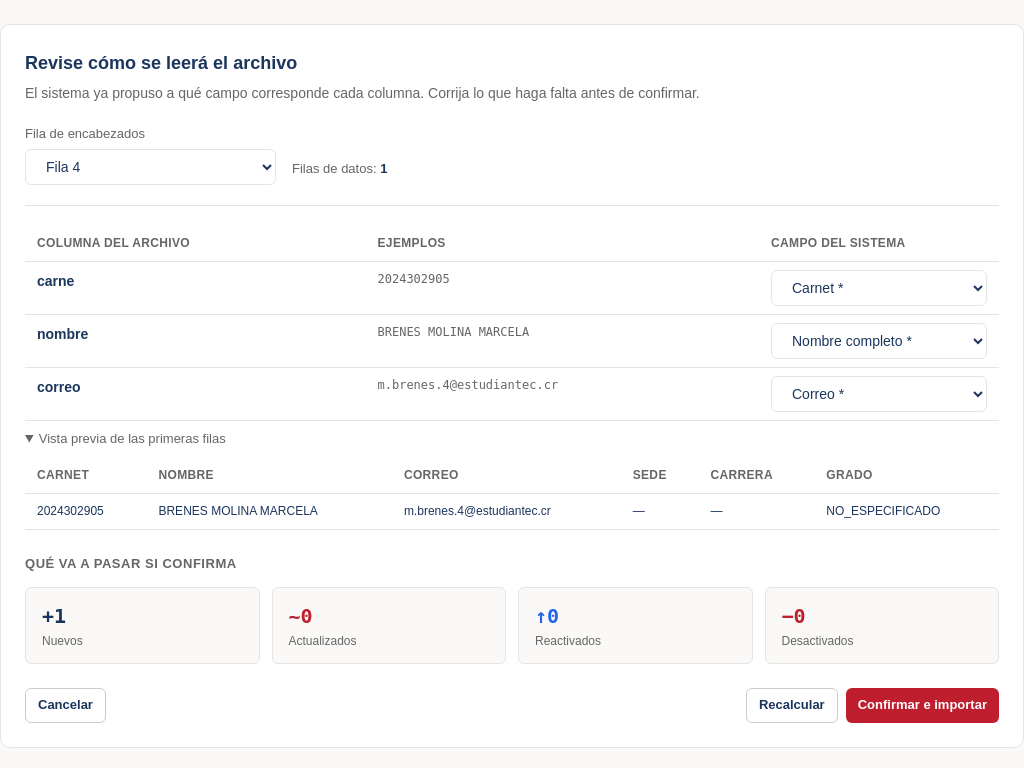
ColumnMapper › libera la columna anterior cuando un campo se reasigna
The image size is (1024, 768).
El correo pasa a leerse de la columna del nombre.
Select "Correo *" in the dropdown named "Campo para la columna nombre" at x=879, y=341, box [771,323,987,359]
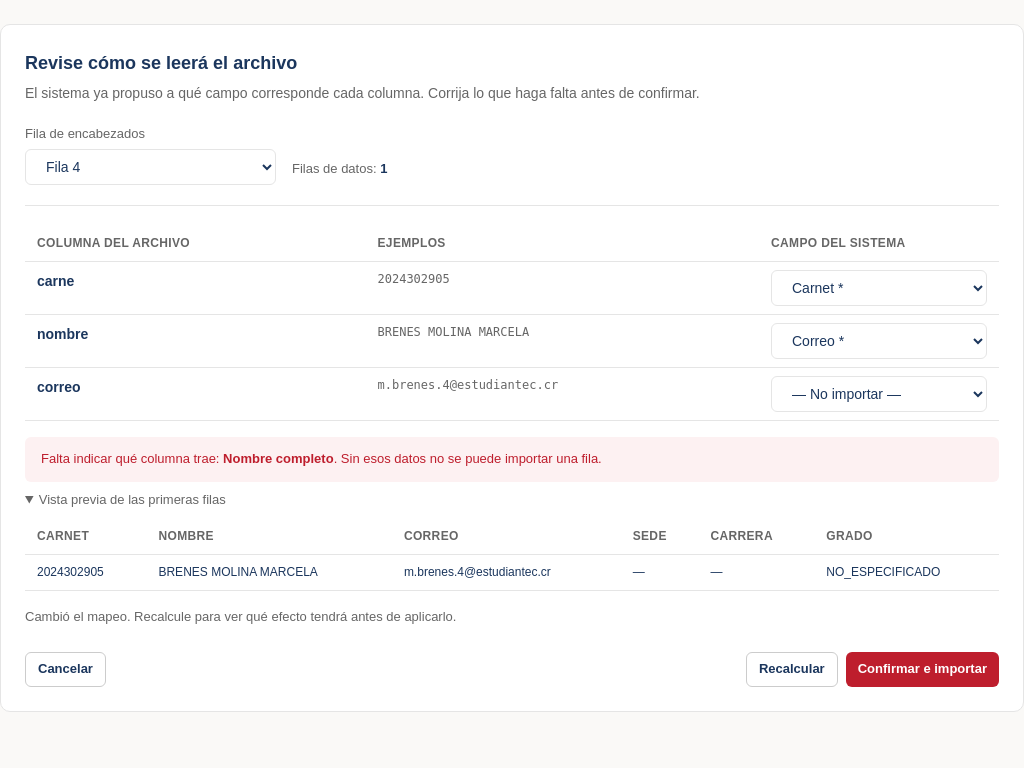
Check: the dropdown named "Campo para la columna correo" shows "— No importar —", box [771,376,987,412]
